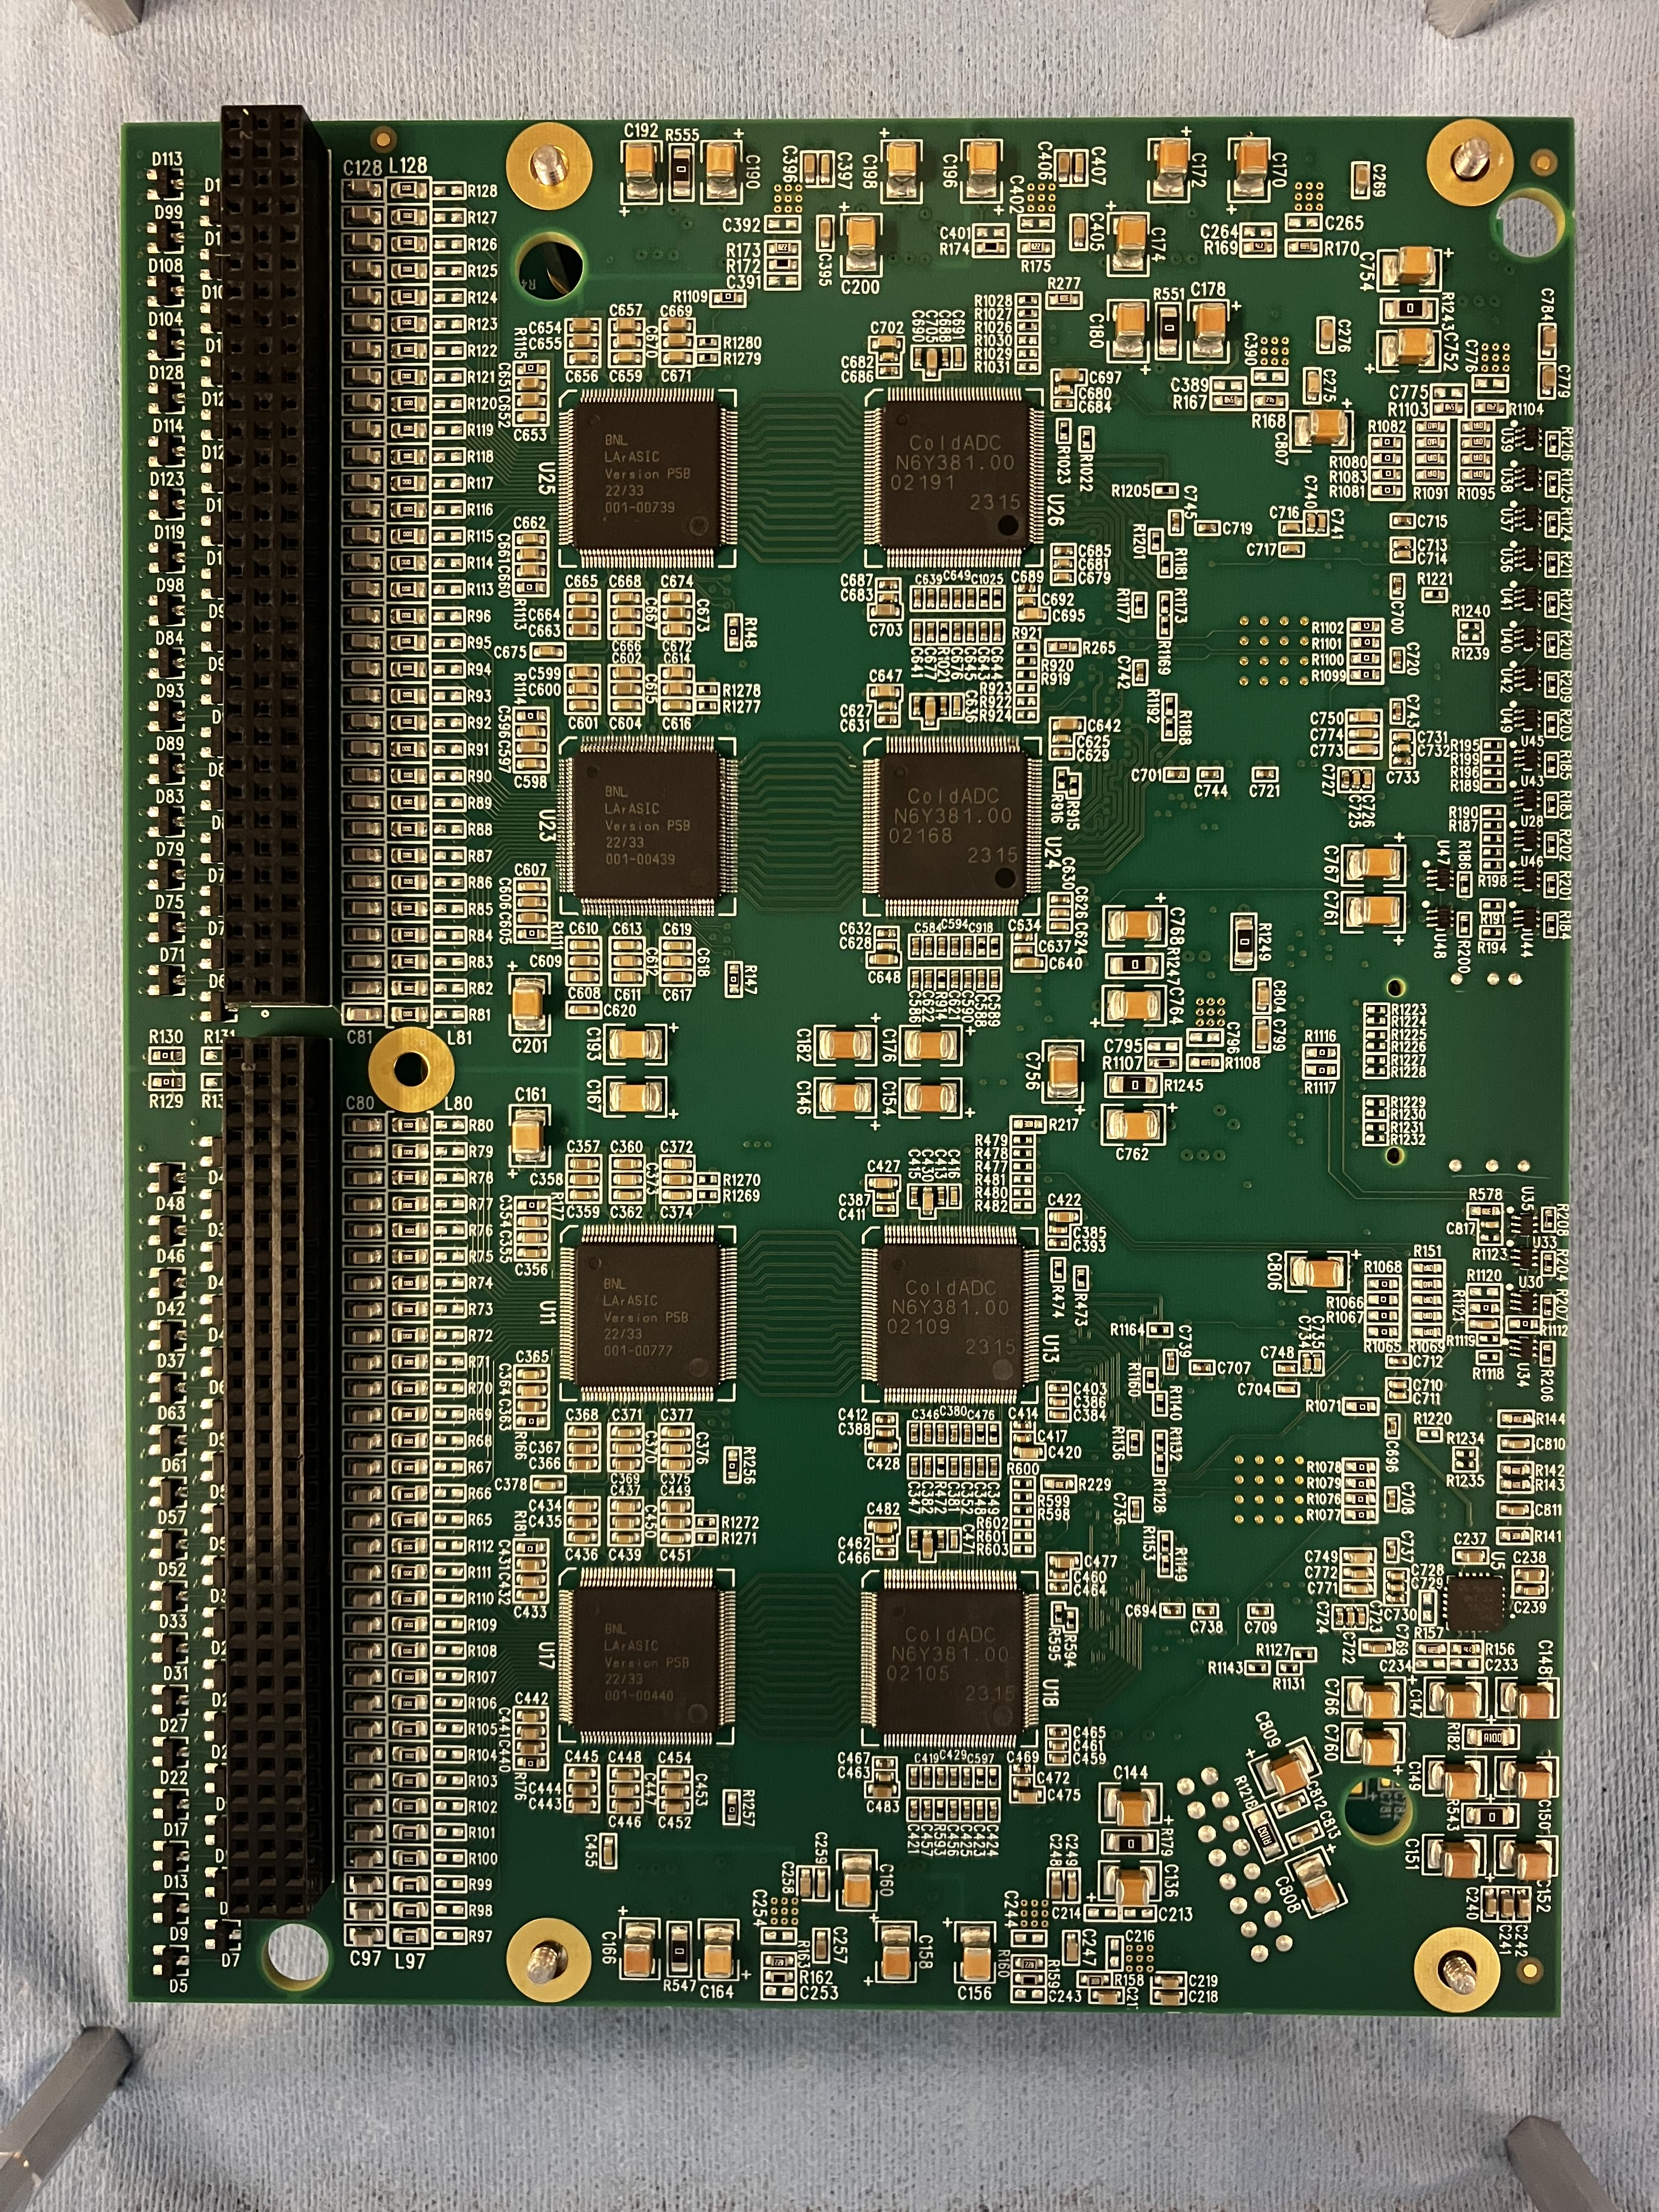chip: (875, 1581, 1028, 1735), (568, 752, 720, 904), (878, 752, 1030, 904), (572, 399, 721, 550), (877, 402, 1026, 554), (570, 1240, 721, 1390), (873, 1240, 1023, 1392), (568, 1581, 718, 1733)
